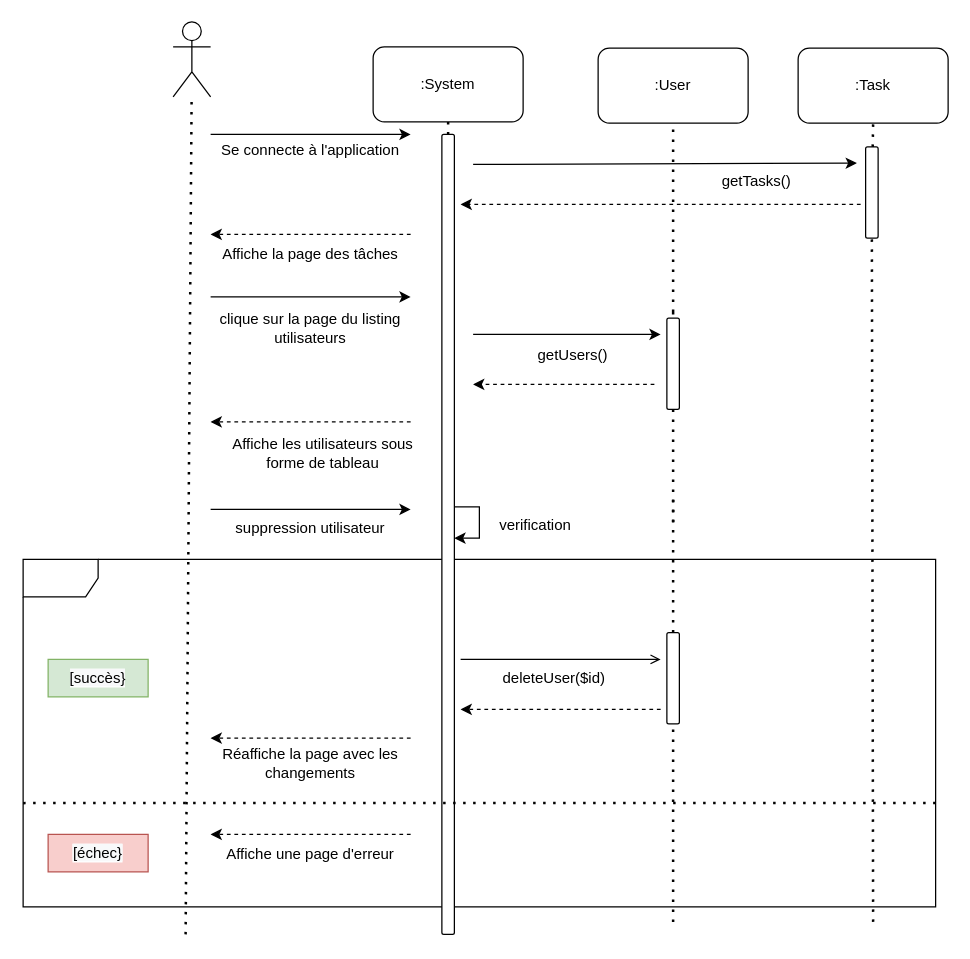
This 970x959 diagram has some shape labels left out. The shapes that lost their labels are listed below. From the top down, each one's box as (x1, y1, x2, y2) in pixels, then its label:
(172, 21, 211, 97): Admin
(22, 558, 936, 907): Alt
